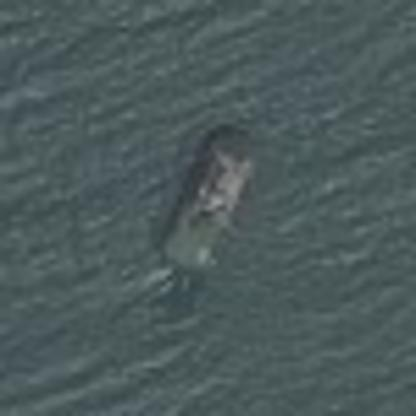ship: (150, 120, 262, 278)
